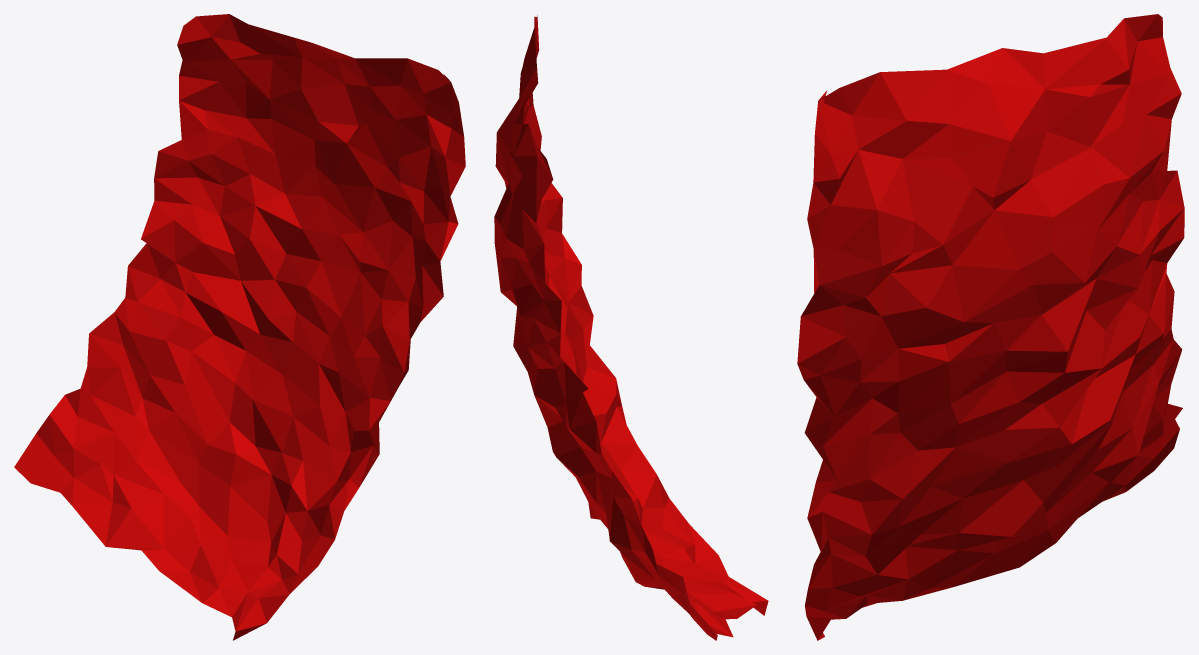
The model's file is Backdropp07.fbx.
The picture shows the model from 3 angles, left to right: view 1: azimuth 30°, elevation 25°; view 2: azimuth 150°, elevation 25°; view 3: azimuth 270°, elevation 25°; orthographic projection. The views are drawn at different scales.
Visible parts, largest first — view 1: Backdropp07; view 2: Backdropp07; view 3: Backdropp07.
Part boxes in pixels (left/top/right/bottom): Backdropp07: left=14, top=14, right=465, bottom=640; Backdropp07: left=494, top=15, right=768, bottom=640; Backdropp07: left=797, top=14, right=1184, bottom=640.
Bounding box in the file's own units: 40489 × 63976 × 32476.
